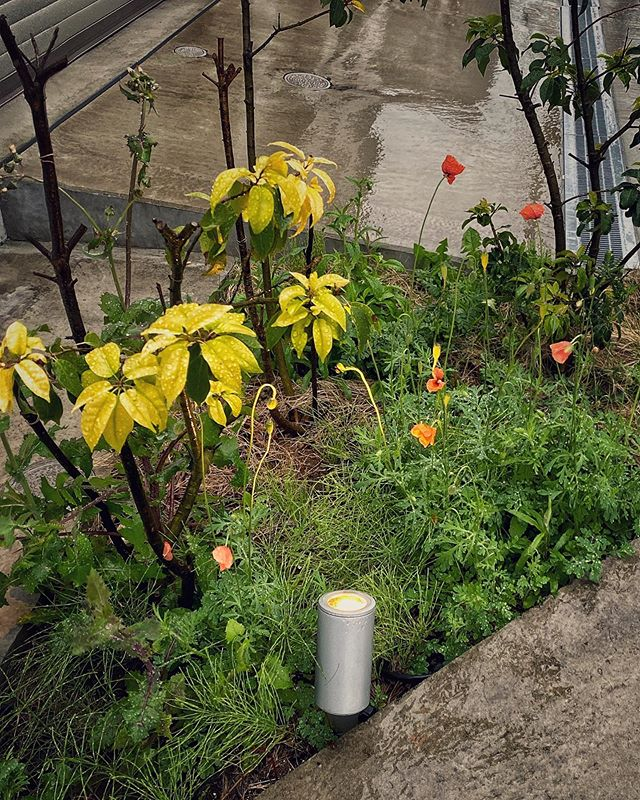vegetation: (23, 171, 621, 743)
